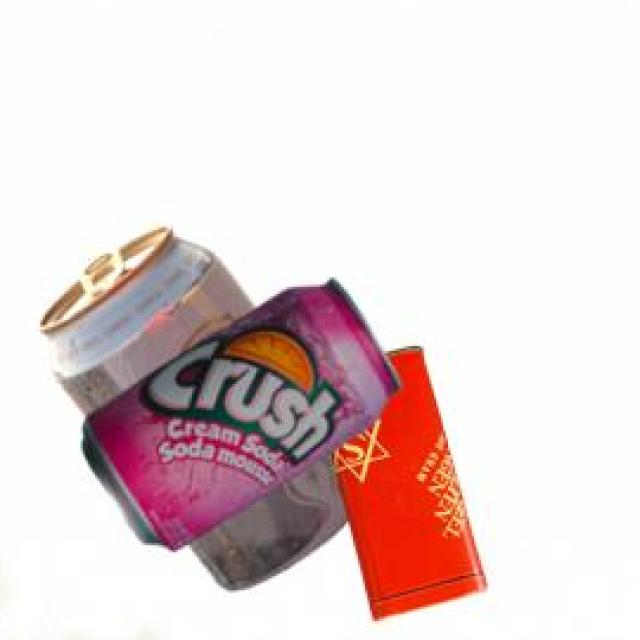logam: (34, 222, 345, 587), (79, 276, 397, 546), (328, 343, 482, 617)
